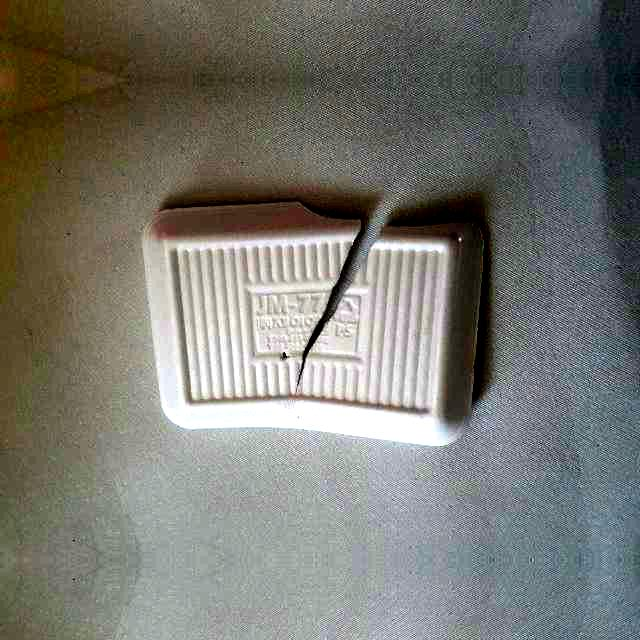Styrofoam: (143, 202, 484, 446), (143, 202, 483, 446)
